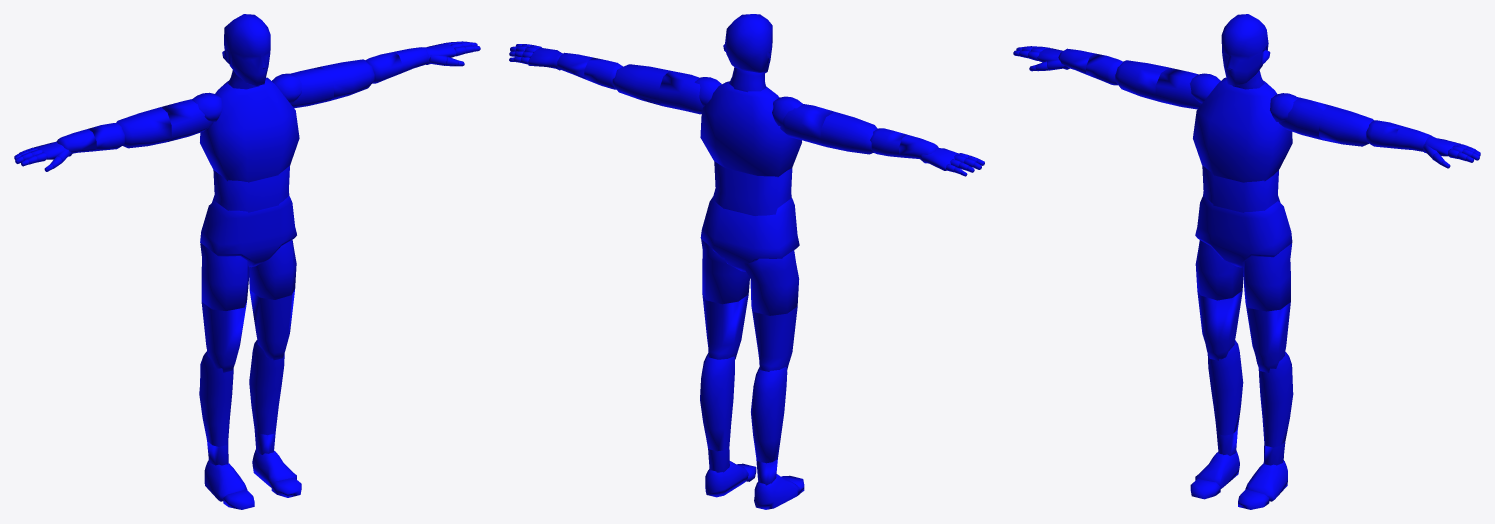
The model's file is actor_phong.dae.
3 renders of one model, left to right at view 1: azimuth 30°, elevation 25°; view 2: azimuth 150°, elevation 25°; view 3: azimuth 330°, elevation 25°, orthographic.
Visible parts, largest first — view 1: nodeChest, nodeHips, nodeHead, nodeRightHip, nodeRightKnee, nodeLeftKnee, nodeWaist, nodeLeftUpLegRoll, nodeRightUpLegRoll, nodeLeftHip, nodeRightArmRoll, nodeLeftArmRoll (+10 smaller); view 2: nodeChest, nodeHips, nodeWaist, nodeRightKnee, nodeLeftKnee, nodeRightHip, nodeHead, nodeLeftUpLegRoll, nodeRightUpLegRoll, nodeLeftHip, nodeRightArmRoll, nodeLeftArmRoll (+10 smaller); view 3: nodeChest, nodeHips, nodeHead, nodeLeftHip, nodeLeftKnee, nodeRightKnee, nodeWaist, nodeRightUpLegRoll, nodeLeftUpLegRoll, nodeRightHip, nodeLeftArmRoll, nodeRightArmRoll (+10 smaller).
Boxes of the visible parts, box(x1,y1,x2,y2) form: nodeChest: box(200, 77, 299, 182); nodeHips: box(200, 196, 296, 267); nodeHead: box(222, 14, 270, 85); nodeRightHip: box(200, 243, 249, 310); nodeRightKnee: box(199, 351, 233, 446); nodeLeftKnee: box(249, 340, 284, 435); nodeWaist: box(212, 165, 289, 212); nodeLeftUpLegRoll: box(249, 290, 294, 360); nodeRightUpLegRoll: box(201, 302, 246, 372); nodeLeftHip: box(249, 240, 296, 299); nodeRightArmRoll: box(116, 107, 171, 148); nodeLeftArmRoll: box(320, 59, 374, 101); nodeChest: box(700, 81, 801, 176); nodeHips: box(700, 197, 799, 271); nodeWaist: box(712, 161, 792, 215); nodeRightKnee: box(751, 367, 787, 463); nodeLeftKnee: box(700, 353, 734, 451); nodeRightHip: box(744, 250, 799, 315); nodeHead: box(723, 14, 772, 73); nodeLeftUpLegRoll: box(702, 293, 748, 359); nodeRightUpLegRoll: box(751, 306, 797, 371); nodeLeftHip: box(701, 239, 749, 304); nodeRightArmRoll: box(820, 112, 877, 154); nodeLeftArmRoll: box(612, 64, 669, 106); nodeChest: box(1193, 77, 1292, 182); nodeHips: box(1195, 196, 1292, 267); nodeHead: box(1221, 14, 1270, 86); nodeLeftHip: box(1243, 243, 1291, 311); nodeLeftKnee: box(1258, 352, 1293, 447); nodeRightKnee: box(1207, 340, 1243, 435); nodeWaist: box(1202, 165, 1280, 212); nodeRightUpLegRoll: box(1197, 290, 1242, 360); nodeLeftUpLegRoll: box(1245, 301, 1290, 372); nodeRightHip: box(1195, 240, 1243, 300); nodeLeftArmRoll: box(1319, 105, 1373, 146); nodeRightArmRoll: box(1115, 60, 1168, 101).
Bounding box in the file's own units: 183 × 178 × 27.12.
